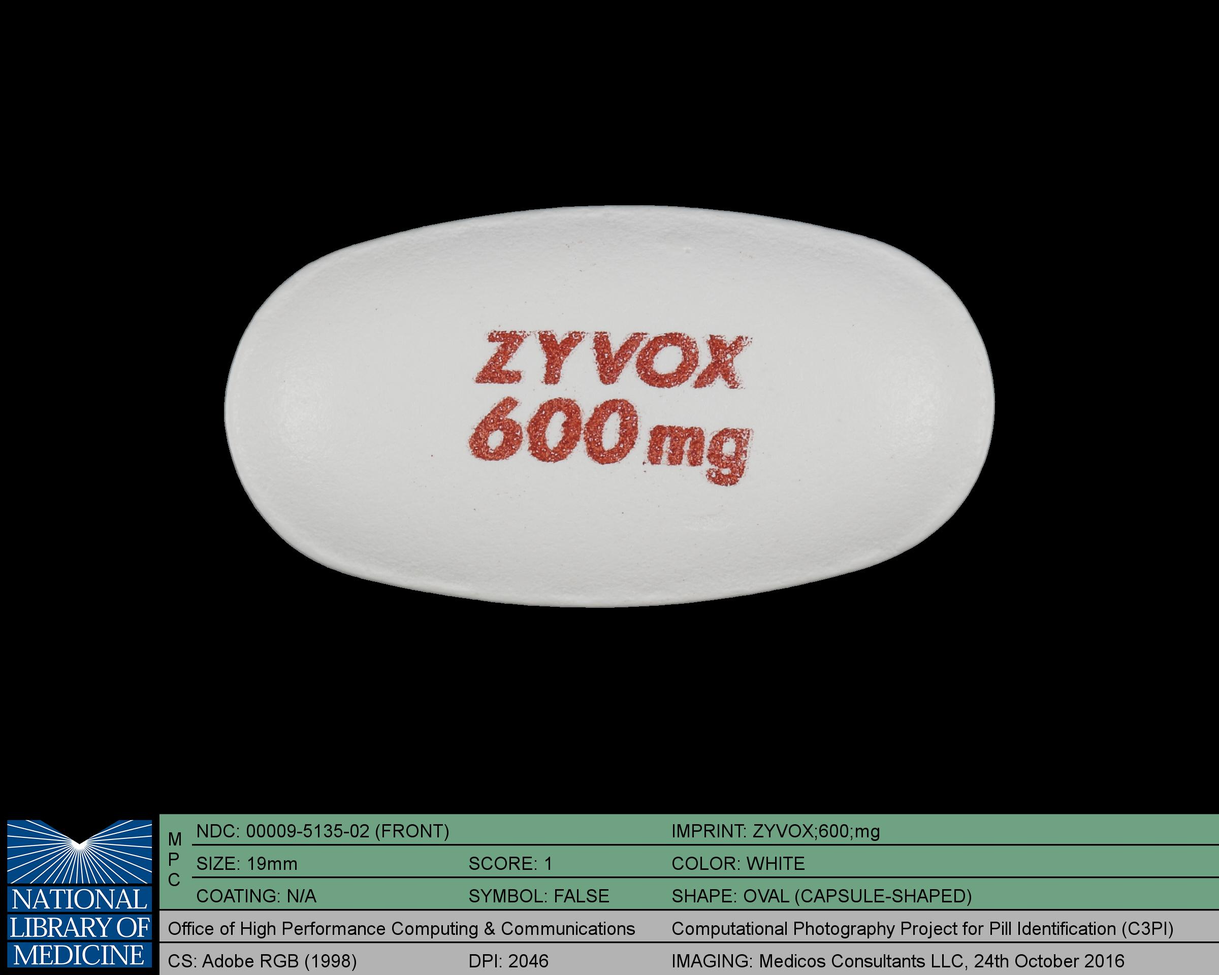Pill: (208, 190, 1009, 625)
